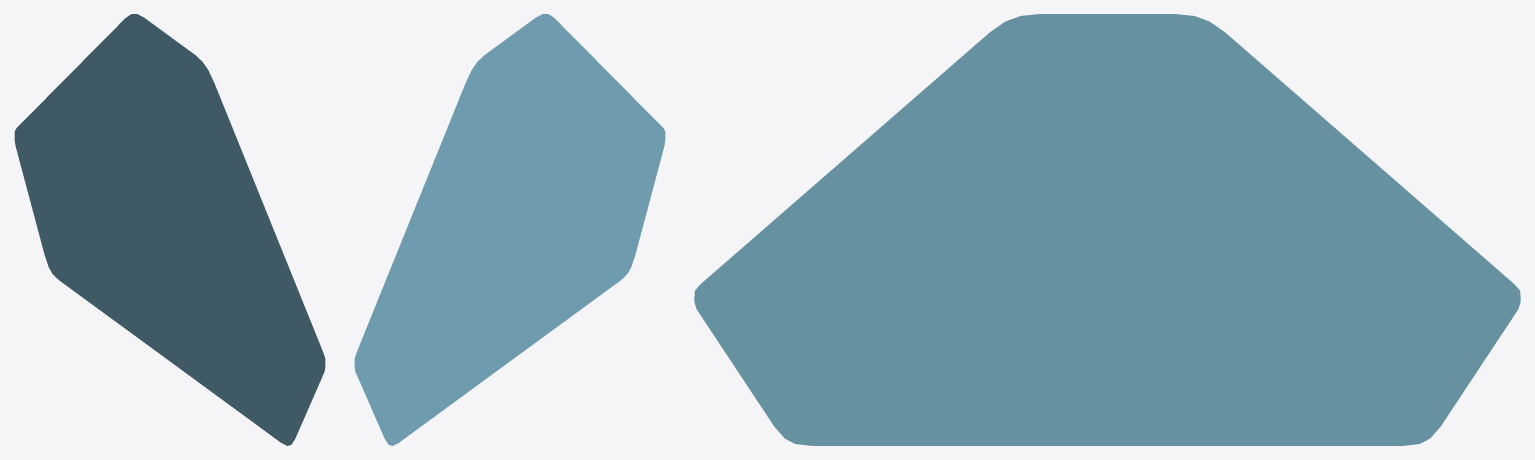
Rendered from Product_01.FBX.
3 views of the same model, side by side, from view 1: azimuth 30°, elevation 25°; view 2: azimuth 150°, elevation 25°; view 3: azimuth 270°, elevation 25° (orthographic). The views are drawn at different scales.
Parts seen in each view (by area): view 1: Product_01; view 2: Product_01; view 3: Product_01.
Boxes of the visible parts, bbox=[...] form: Product_01: bbox=[14, 14, 325, 445]; Product_01: bbox=[354, 14, 665, 445]; Product_01: bbox=[694, 14, 1520, 445].
Size of the model in its own units: 2.86e-06 by 3.8 by 6.58.
